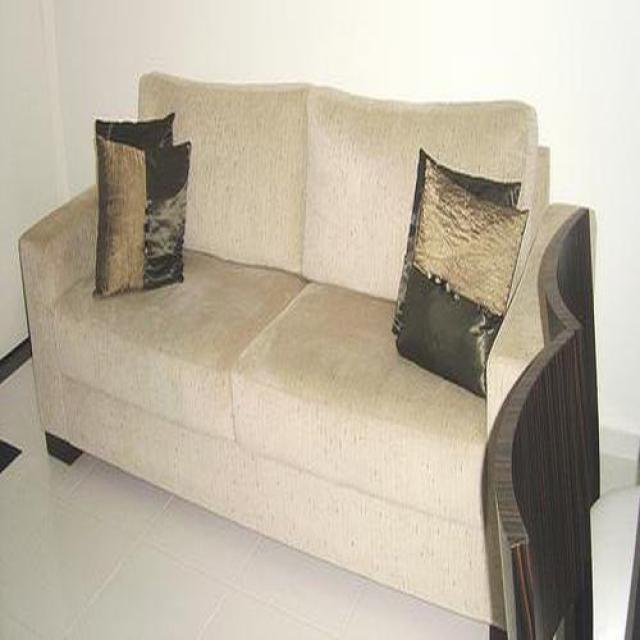sofa: (17, 73, 602, 640)
